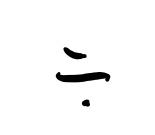div: (55, 47, 110, 105)
